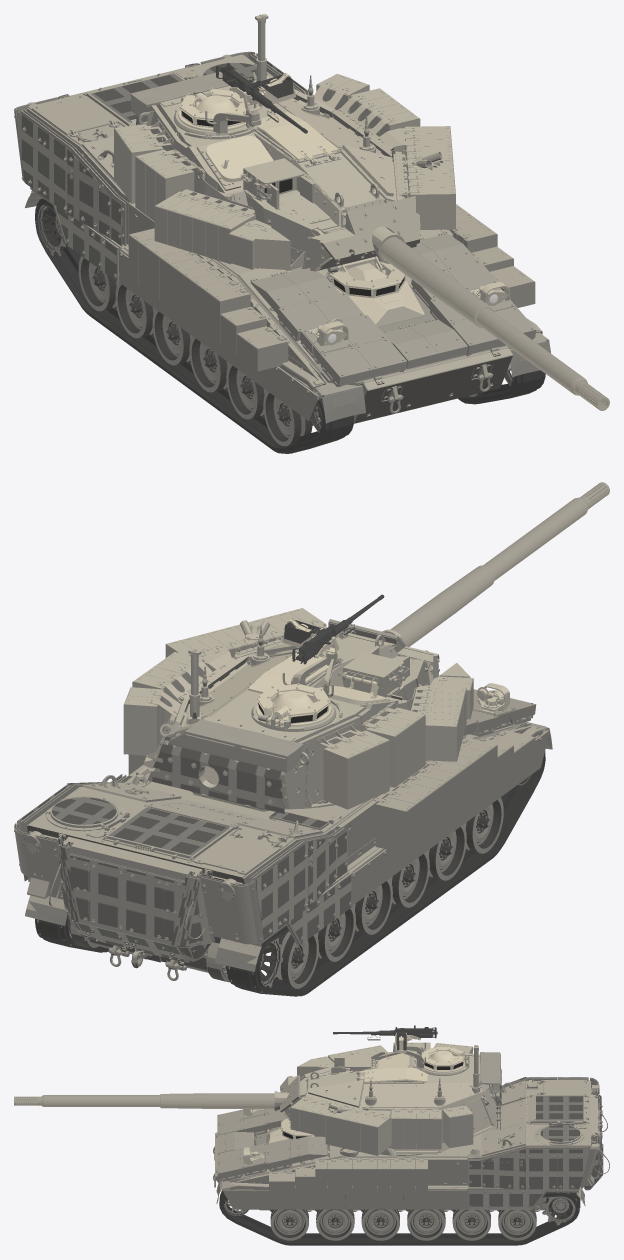
The model's file is vehicle.glb.
The picture shows the model from 3 angles, top to bottom: view 1: azimuth 30°, elevation 25°; view 2: azimuth 150°, elevation 25°; view 3: azimuth 270°, elevation 25°; orthographic projection. The views are drawn at different scales.
Parts seen in each view (by area): view 1: g0025 bone_turret, g0180 track_r, g0000 @root, g0027 gun_barrel, g0130 ex_armor_01, g0088 hatch_03, g0030 ex_armor_turret_01, g0141 ex_armor_r_16, g0059 ex_armor_13, g0062 ex_armor_r_20, g0142 ex_armor_r_17, g0133 ex_armor_04 (+56 smaller); view 2: g0000 @root, g0025 bone_turret, g0180 track_r, g0027 gun_barrel, g0000_grille_00 @root / grille_00, g0058 ex_armor_14, g0035 ex_decor_01, g0072_grille_13 turret_03 / grille_13, g0144 ex_armor_r_19, g0095 body_01, g0157 ex_armor_body_r_08, g0059 ex_armor_13 (+47 smaller); view 3: g0025 bone_turret, g0000 @root, g0179 track_l, g0027 gun_barrel, g0000_grille_00 @root / grille_00, g0097 body_03, g0048 ex_armor_16, g0176_grille_05 ex_armor_body_l_20 / grille_05, g0147 ex_armor_l_18, g0148 ex_armor_l_19, g0146 ex_armor_l_17, g0145 ex_armor_l_16 (+45 smaller).
Boxes of the visible parts, bbox=[...] form: g0025 bone_turret: bbox=[138, 14, 404, 252]; g0180 track_r: bbox=[35, 198, 353, 453]; g0000 @root: bbox=[26, 54, 511, 419]; g0027 gun_barrel: bbox=[380, 237, 609, 410]; g0130 ex_armor_01: bbox=[354, 346, 512, 423]; g0088 hatch_03: bbox=[329, 256, 424, 327]; g0030 ex_armor_turret_01: bbox=[319, 196, 420, 263]; g0141 ex_armor_r_16: bbox=[220, 303, 291, 371]; g0059 ex_armor_13: bbox=[135, 149, 200, 221]; g0062 ex_armor_r_20: bbox=[228, 220, 305, 270]; g0142 ex_armor_r_17: bbox=[189, 272, 252, 343]; g0133 ex_armor_04: bbox=[319, 338, 406, 385]; g0000 @root: bbox=[27, 723, 526, 982]; g0025 bone_turret: bbox=[160, 625, 412, 811]; g0180 track_r: bbox=[226, 751, 545, 996]; g0027 gun_barrel: bbox=[390, 482, 609, 646]; g0000_grille_00 @root / grille_00: bbox=[52, 797, 327, 855]; g0058 ex_armor_14: bbox=[317, 722, 389, 809]; g0035 ex_decor_01: bbox=[168, 719, 303, 772]; g0072_grille_13 turret_03 / grille_13: bbox=[147, 752, 284, 813]; g0144 ex_armor_r_19: bbox=[373, 782, 436, 853]; g0095 body_01: bbox=[22, 724, 542, 957]; g0157 ex_armor_body_r_08: bbox=[200, 877, 263, 944]; g0059 ex_armor_13: bbox=[362, 707, 425, 787]; g0025 bone_turret: bbox=[300, 1042, 488, 1153]; g0000 @root: bbox=[213, 1079, 594, 1211]; g0179 track_l: bbox=[219, 1189, 580, 1245]; g0027 gun_barrel: bbox=[14, 1093, 274, 1108]; g0000_grille_00 @root / grille_00: bbox=[536, 1095, 583, 1141]; g0097 body_03: bbox=[223, 1080, 594, 1188]; g0048 ex_armor_16: bbox=[351, 1111, 390, 1155]; g0176_grille_05 ex_armor_body_l_20 / grille_05: bbox=[467, 1189, 545, 1209]; g0147 ex_armor_l_18: bbox=[353, 1158, 390, 1195]; g0148 ex_armor_l_19: bbox=[390, 1158, 427, 1195]; g0146 ex_armor_l_17: bbox=[315, 1158, 352, 1195]; g0145 ex_armor_l_16: bbox=[269, 1164, 315, 1195].
Size of the model in its own units: 3.31 by 3.1 by 9.45.
358 materials, 340 textured.
